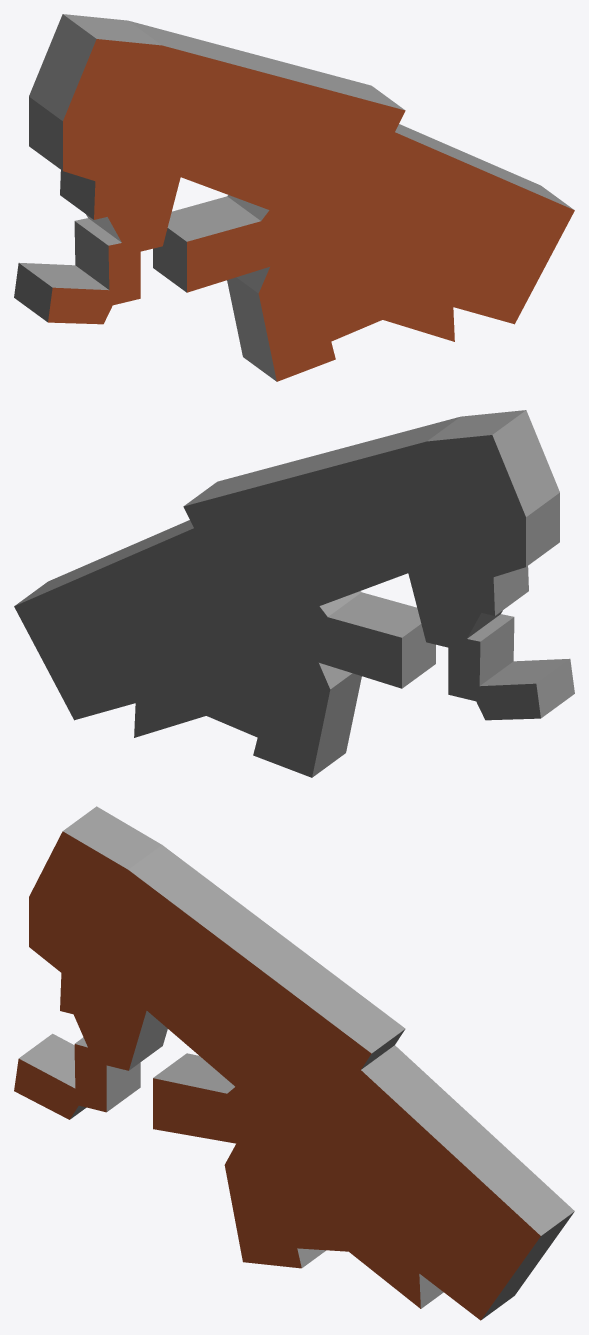
The model's file is construction_2509_assumed_A_Casa_h6m.obj.
3 views of the same model, one above another, from view 1: azimuth 30°, elevation 25°; view 2: azimuth 150°, elevation 25°; view 3: azimuth 330°, elevation 25° (orthographic).
Parts seen in each view (by area): view 1: construction_2509_assumed_A_Casa; view 2: construction_2509_assumed_A_Casa; view 3: construction_2509_assumed_A_Casa.
Part boxes in pixels (box(x1,y1,x2,y2)): construction_2509_assumed_A_Casa: box(14, 14, 574, 381); construction_2509_assumed_A_Casa: box(14, 410, 574, 777); construction_2509_assumed_A_Casa: box(14, 806, 574, 1320).
Bounding box in the file's own units: 53.68 × 38.02 × 6.
